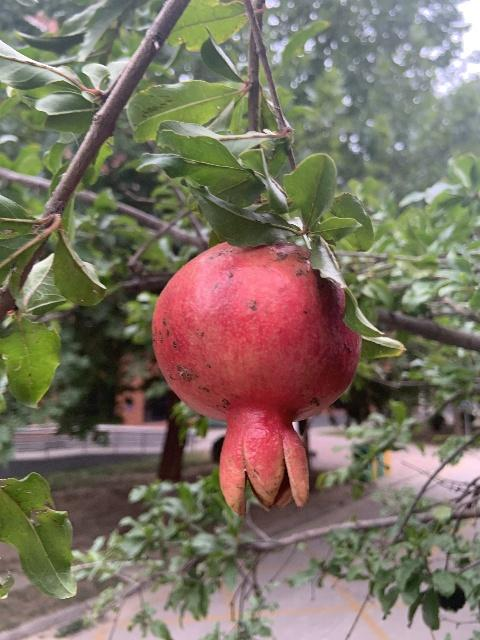ripe: (152, 242, 360, 515)
